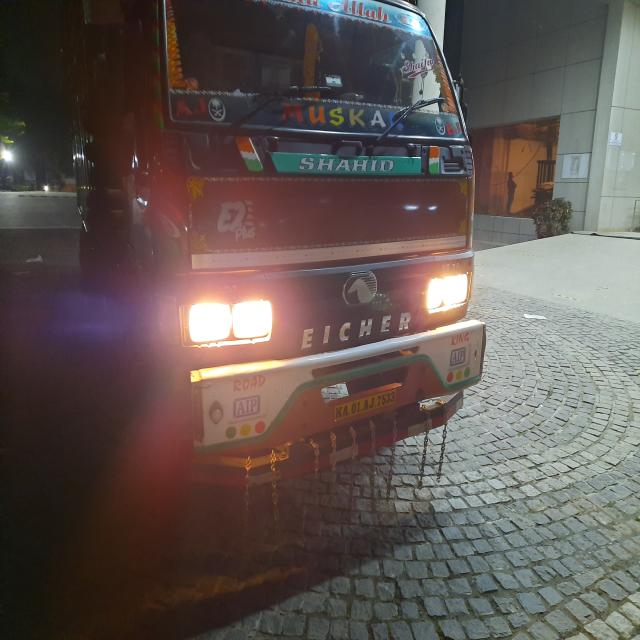Number_Plate_Detected: (335, 388, 395, 421)
